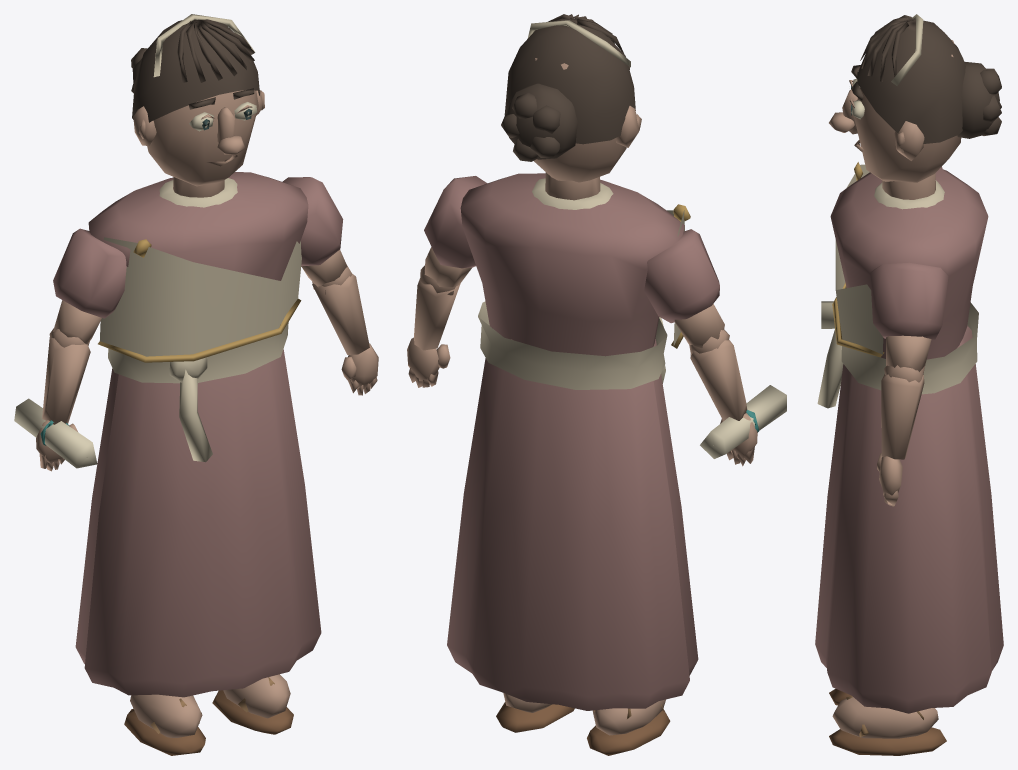
File: citizen-rose.glb
3 views of the same model, side by side, from view 1: azimuth 30°, elevation 25°; view 2: azimuth 150°, elevation 25°; view 3: azimuth 270°, elevation 25° (orthographic). The views are drawn at different scales.
Parts seen in each view (by area): view 1: citizen-rose__Visual_matte; view 2: citizen-rose__Visual_matte; view 3: citizen-rose__Visual_matte.
Boxes of the visible parts, left/top/right/bottom form: citizen-rose__Visual_matte: left=14, top=14, right=378, bottom=755; citizen-rose__Visual_matte: left=407, top=14, right=786, bottom=755; citizen-rose__Visual_matte: left=815, top=14, right=1003, bottom=755.
Size of the model in its own units: 0.971 by 1.91 by 0.4606.
